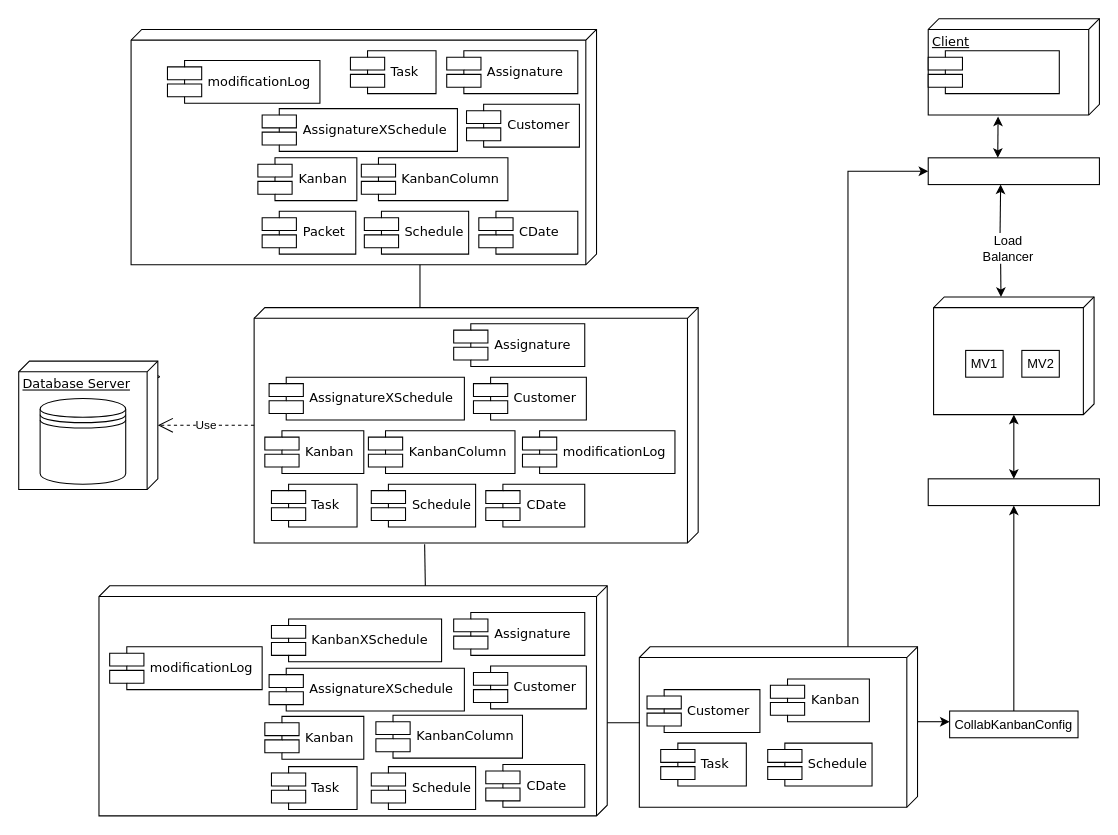
The diagram is 1118 pixels wide and 835 high, and some of its shapes have lost their labels. Here are the shapes that lost their labels. From the top down, the box of each, then its label:
(927, 50, 1059, 94): Web Browser
(130, 28, 597, 265): Model
(927, 157, 1099, 185): Azure Web PubSub
(933, 296, 1094, 415): Máquinas Virtuales
(39, 398, 126, 484): PostgresSQL
(253, 307, 698, 543): Repository
(927, 478, 1099, 506): SpringBootApp
(98, 585, 607, 816): Service
(638, 646, 918, 807): Rest
